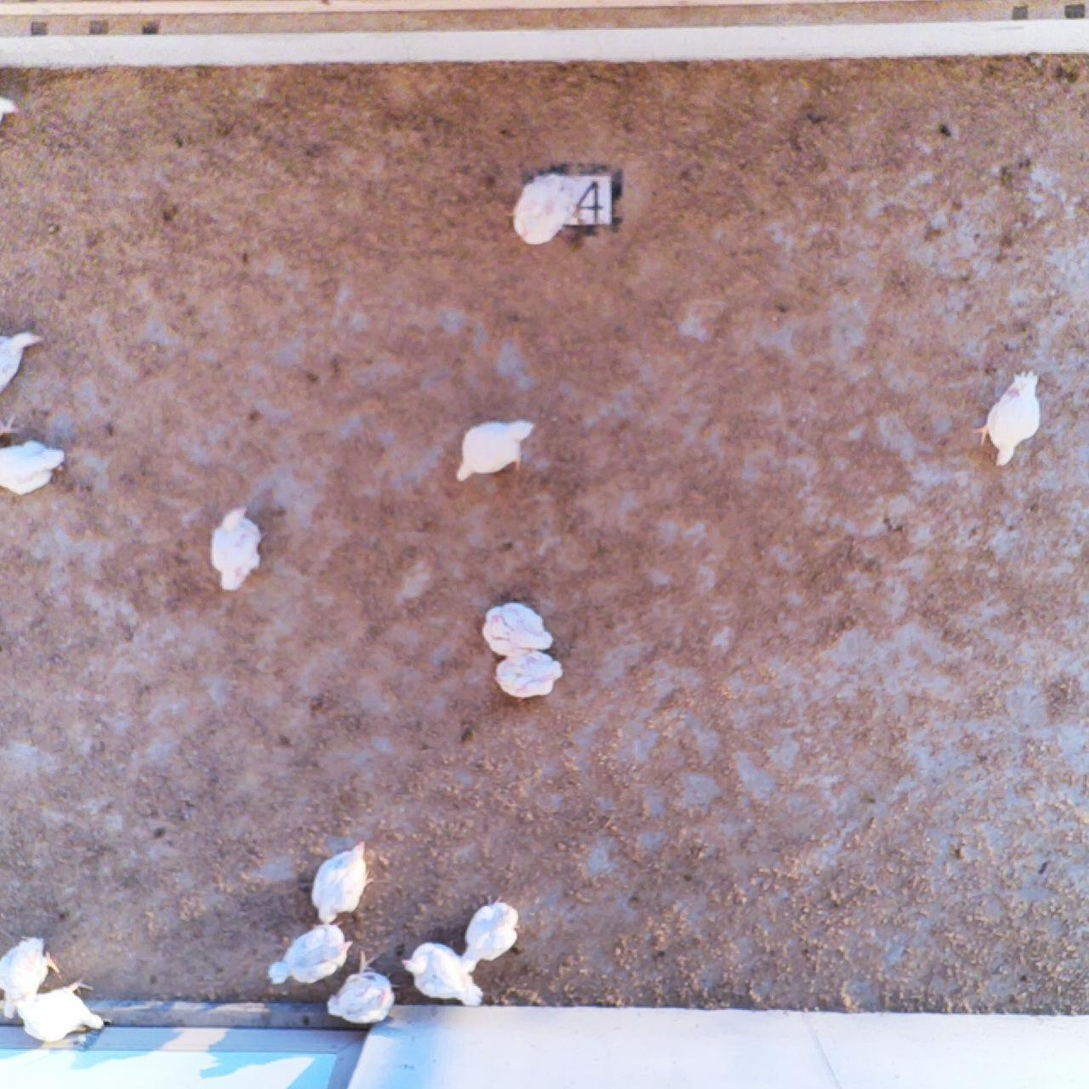chicken: (972, 363, 1045, 471), (262, 917, 357, 988), (447, 412, 537, 486), (14, 977, 105, 1049), (506, 166, 580, 249), (401, 938, 488, 1008), (323, 950, 402, 1026), (0, 927, 63, 1022), (203, 502, 267, 595), (308, 838, 370, 928), (482, 597, 560, 660), (0, 432, 71, 497), (461, 893, 520, 970), (492, 648, 565, 703), (0, 326, 42, 396)
